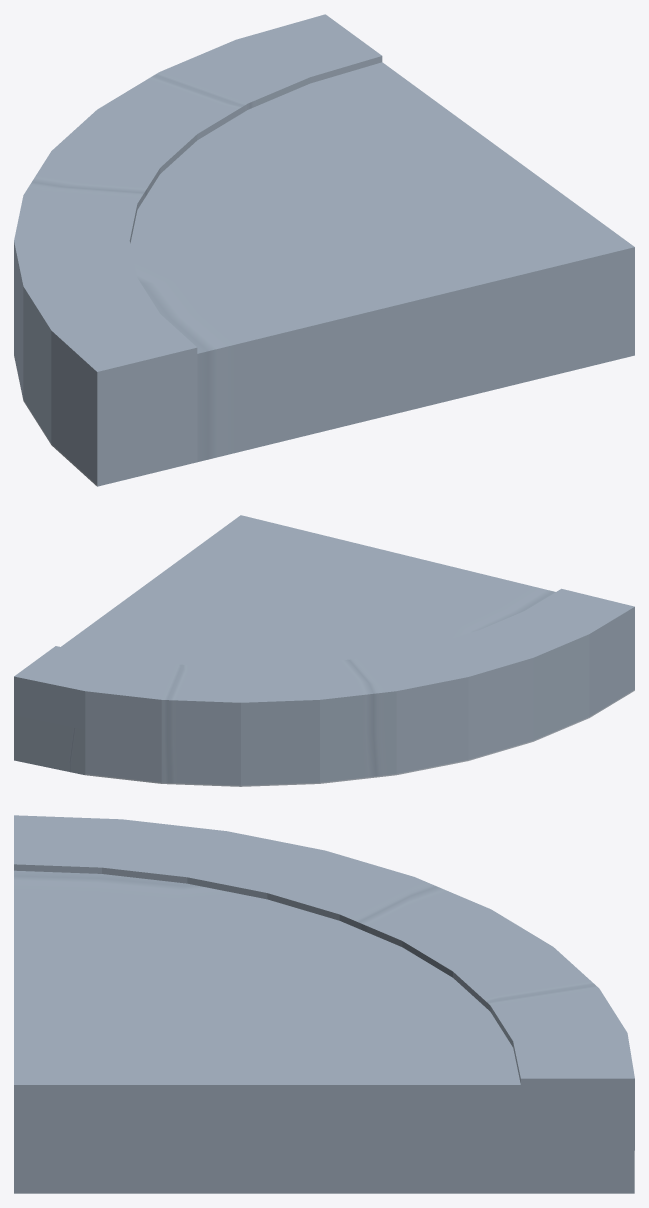
The model's file is Road_Side_Turn.fbx.
3 views of the same model, one above another, from view 1: azimuth 30°, elevation 25°; view 2: azimuth 150°, elevation 25°; view 3: azimuth 270°, elevation 25° (orthographic). The views are drawn at different scales.
Parts seen in each view (by area): view 1: Road_turn_corner_small.002; view 2: Road_turn_corner_small.002; view 3: Road_turn_corner_small.002.
Boxes of the visible parts, bbox=[...] form: Road_turn_corner_small.002: bbox=[14, 14, 634, 486]; Road_turn_corner_small.002: bbox=[14, 515, 634, 786]; Road_turn_corner_small.002: bbox=[14, 815, 634, 1193].
Size of the model in its own units: 500 by 102 by 499.
